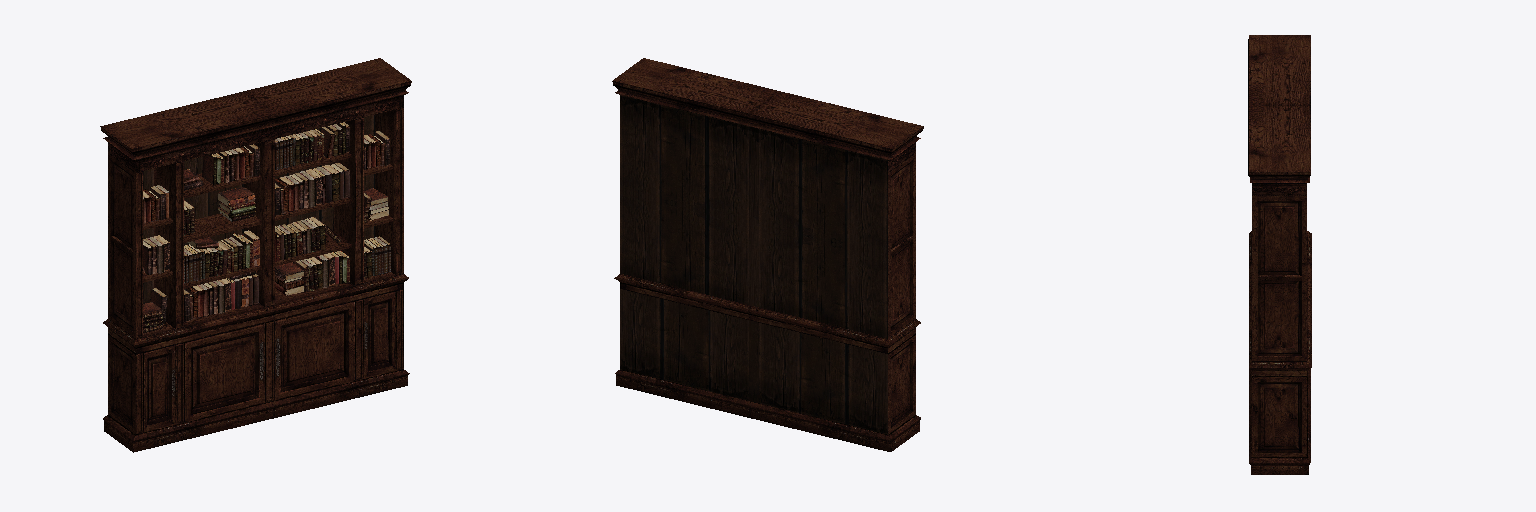
3 renders of one model, left to right at view 1: azimuth 30°, elevation 25°; view 2: azimuth 150°, elevation 25°; view 3: azimuth 270°, elevation 25°, orthographic.
Visible parts, largest first — view 1: Bookcase01; view 2: Bookcase01; view 3: Bookcase01.
Boxes of the visible parts, x1=… form: Bookcase01: x1=100, y1=58, x2=411, y2=452; Bookcase01: x1=612, y1=58, x2=923, y2=451; Bookcase01: x1=1248, y1=35, x2=1311, y2=474.
Bounding box in the file's own units: 258 × 268 × 50.22.
Materials: 1 (1 with a texture image).